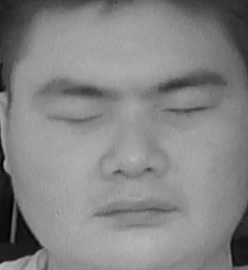blink: (46, 101, 102, 134), (159, 95, 216, 127)
mouth: (87, 188, 182, 234)
